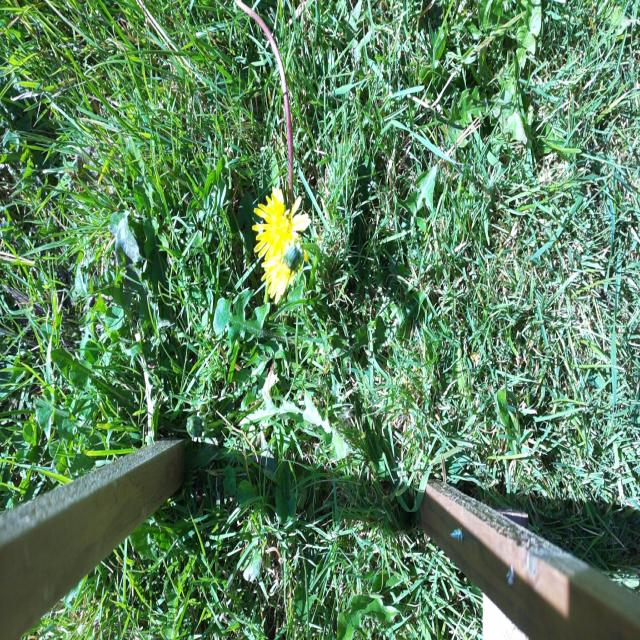base: (228, 0, 250, 24), (304, 270, 321, 300)
